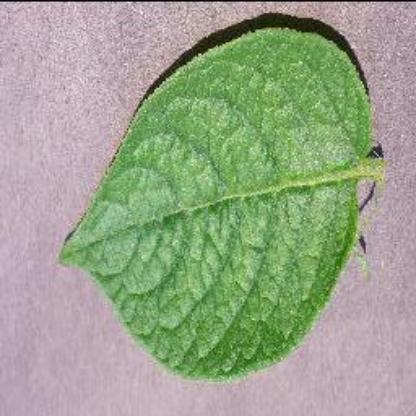Healthy-plant: (36, 10, 408, 386)
